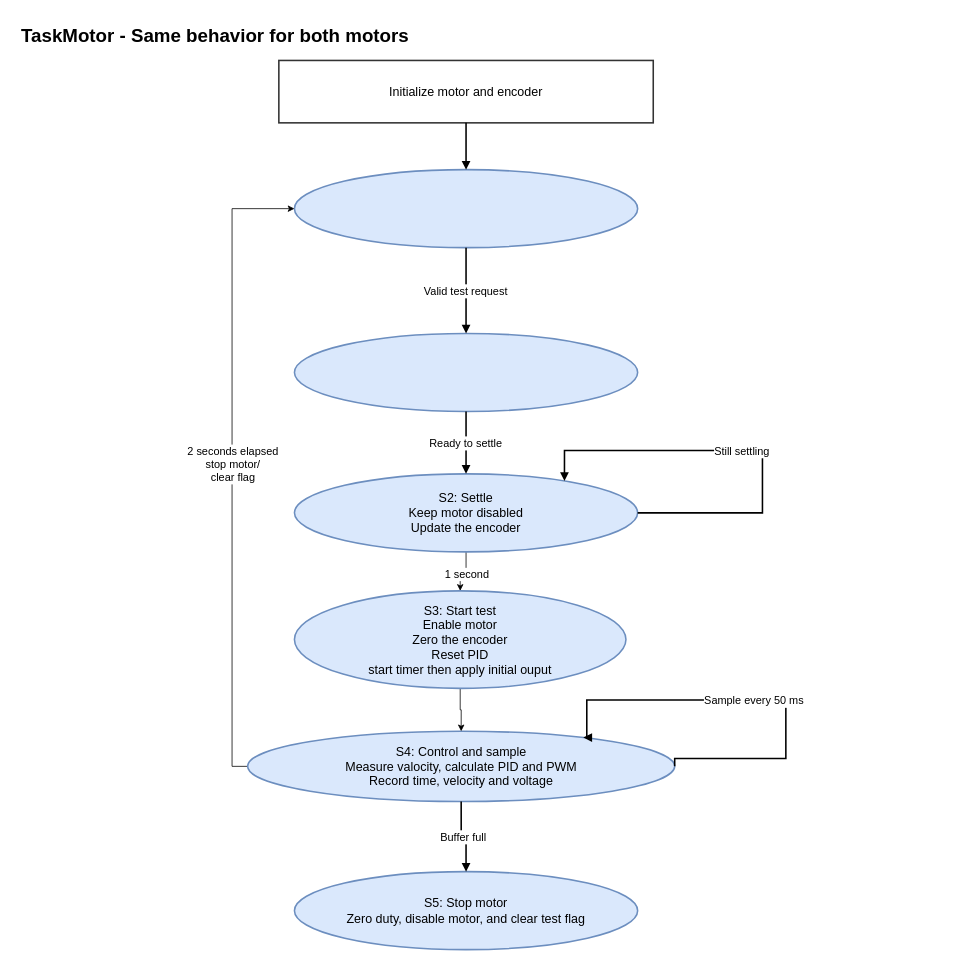
The diagram is 963 pixels wide and 963 high, and some of its shapes have lost their labels. The centre of each missing label's shape, as x and y in pixels:
"S0: Idle Motor disabled Wait for a test request" belongs at point (465, 208).
"S1: Read the Kp setpoint Reset PID Start the settling timer" belongs at point (465, 372).
